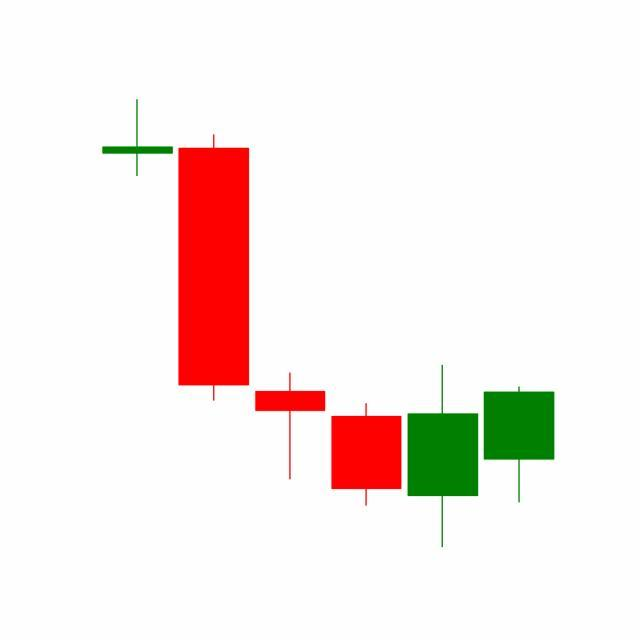Three Outside Up-Down: (326, 362, 555, 549)
